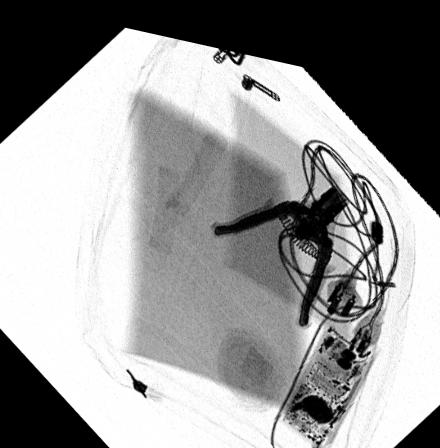Pliers: (213, 167, 348, 312)
